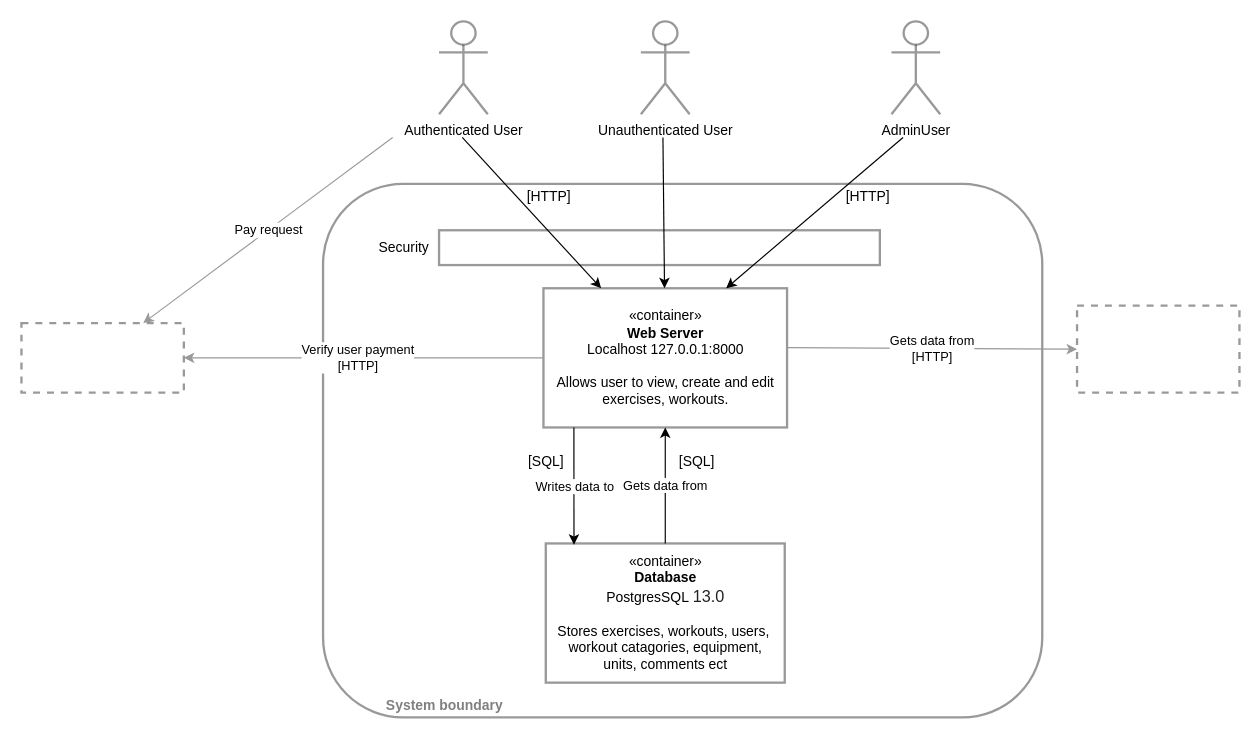
The diagram is 1260 pixels wide and 738 high, and some of its shapes have lost their labels. Each missing label, with the centre of its shape:
"«external service» Paypal" goes at (x=102, y=357).
"«external service» WeatherAPI.com" goes at (x=1157, y=348).
